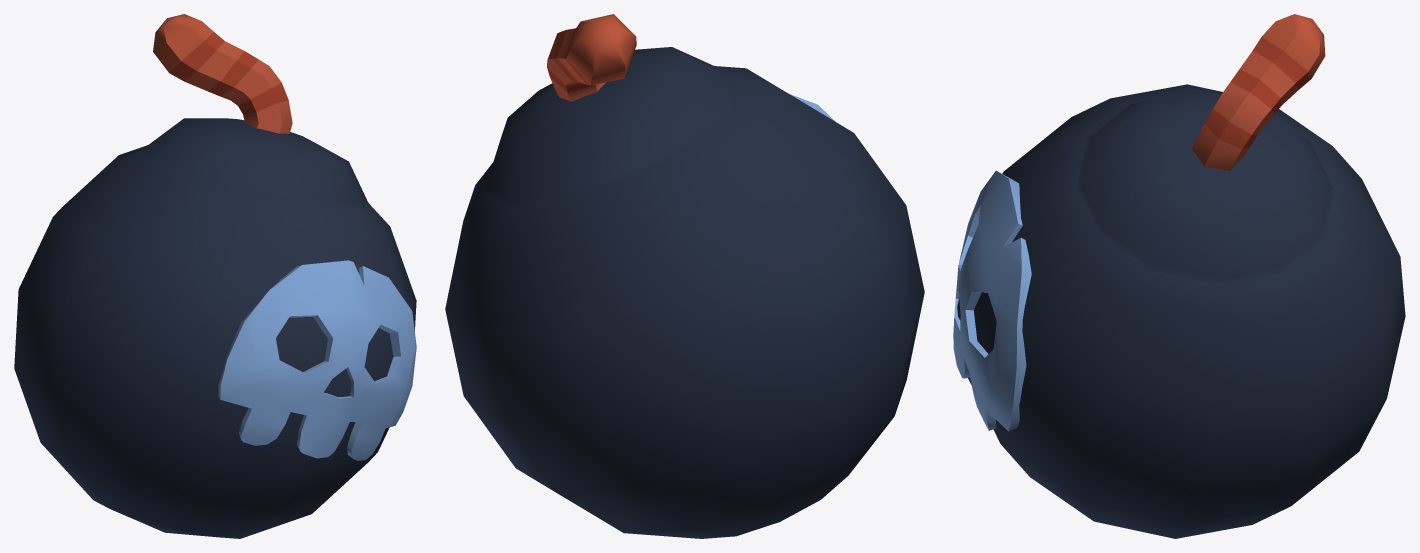
The picture shows the model from 3 angles, left to right: view 1: azimuth 30°, elevation 25°; view 2: azimuth 150°, elevation 25°; view 3: azimuth 270°, elevation 25°; orthographic projection. The views are drawn at different scales.
Parts seen in each view (by area): view 1: model_0.087; view 2: model_0.087; view 3: model_0.087.
Part boxes in pixels (bbox=[...]): model_0.087: bbox=[14, 14, 416, 538]; model_0.087: bbox=[445, 14, 924, 538]; model_0.087: bbox=[953, 14, 1405, 538].
Size of the model in its own units: 3.45 by 4.32 by 3.47.
